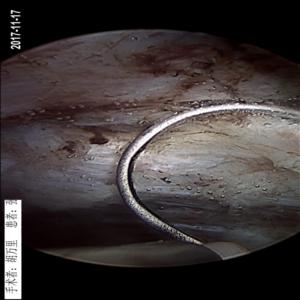film: (9, 51, 269, 136), (51, 199, 285, 244)
